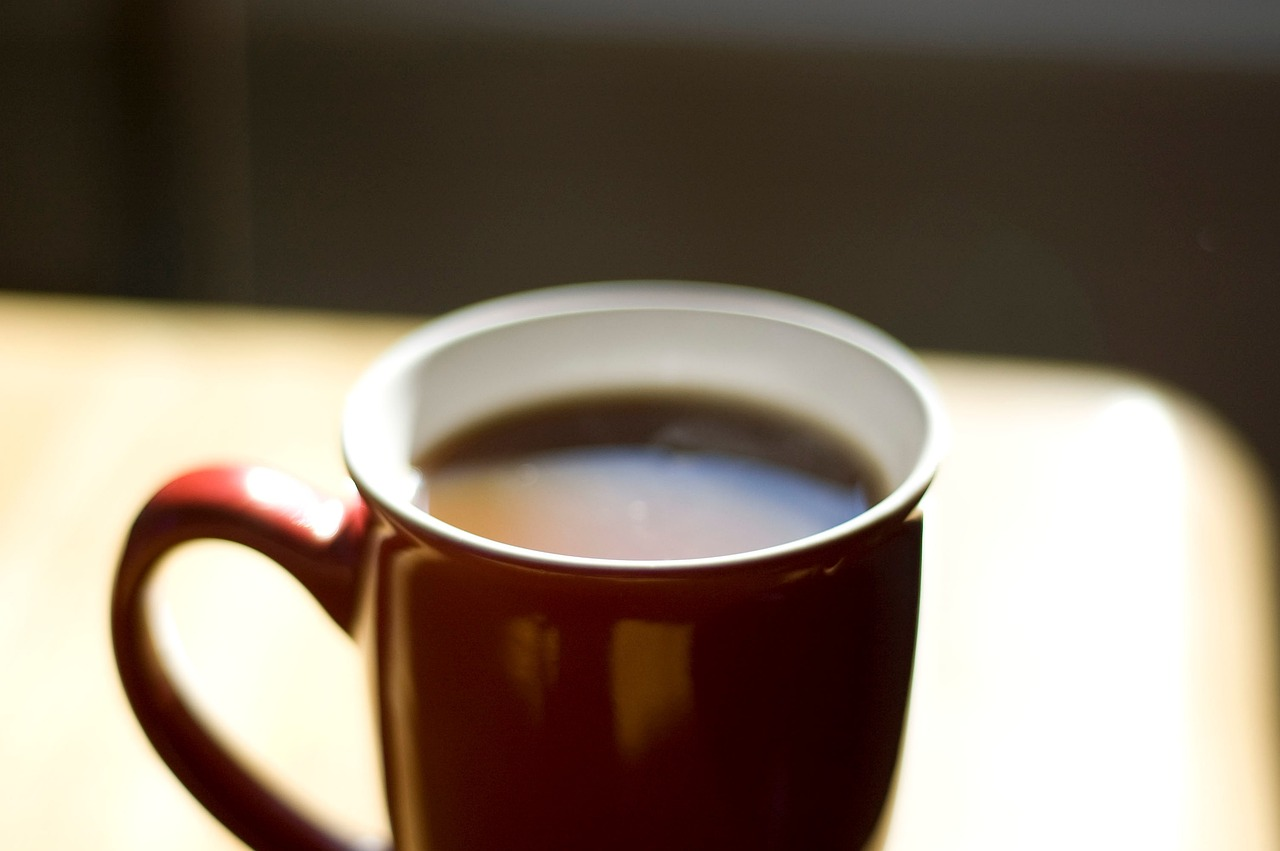mug: (106, 279, 947, 851)
